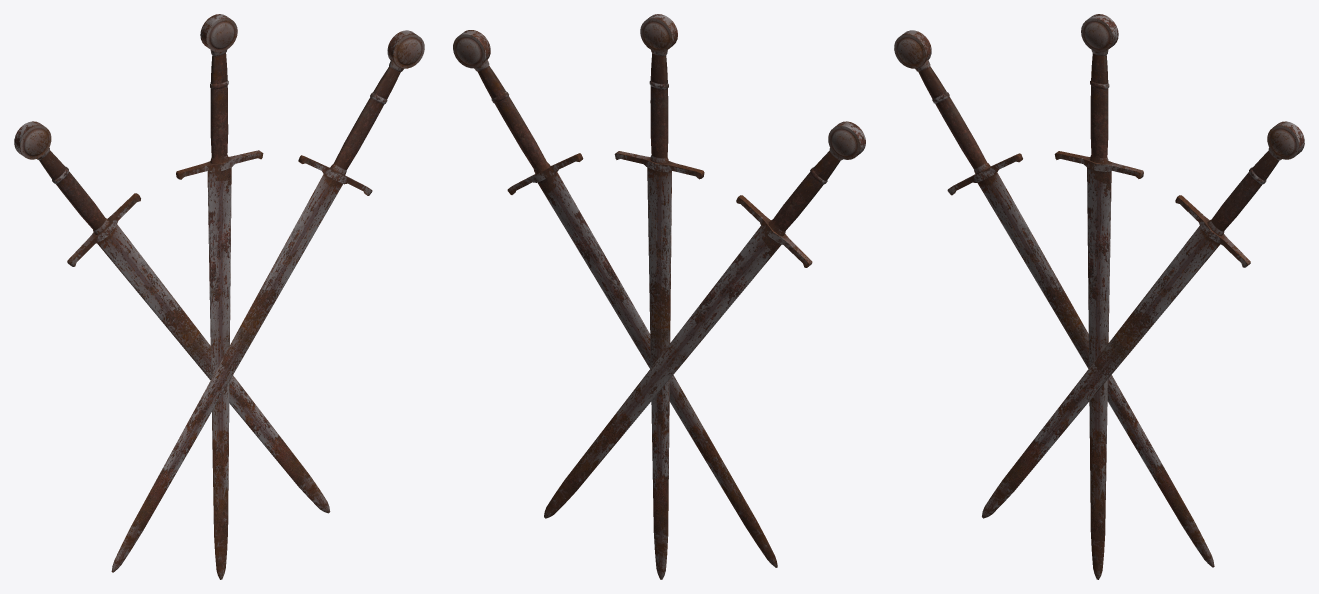
The model's file is pbr_rusty_sword.glb.
The picture shows the model from 3 angles, left to right: view 1: azimuth 30°, elevation 25°; view 2: azimuth 150°, elevation 25°; view 3: azimuth 330°, elevation 25°; orthographic projection.
Parts seen in each view (by area): view 1: Sheathe_LOD0; view 2: Sheathe_LOD0; view 3: Sheathe_LOD0.
Boxes of the visible parts, x1,y1,x2,y2 form: Sheathe_LOD0: (14,14,424,579); Sheathe_LOD0: (453,14,865,579); Sheathe_LOD0: (894,14,1304,579).
Size of the model in its own units: 0.7882 by 1.04 by 0.0344.
1 material, 1 textured.
